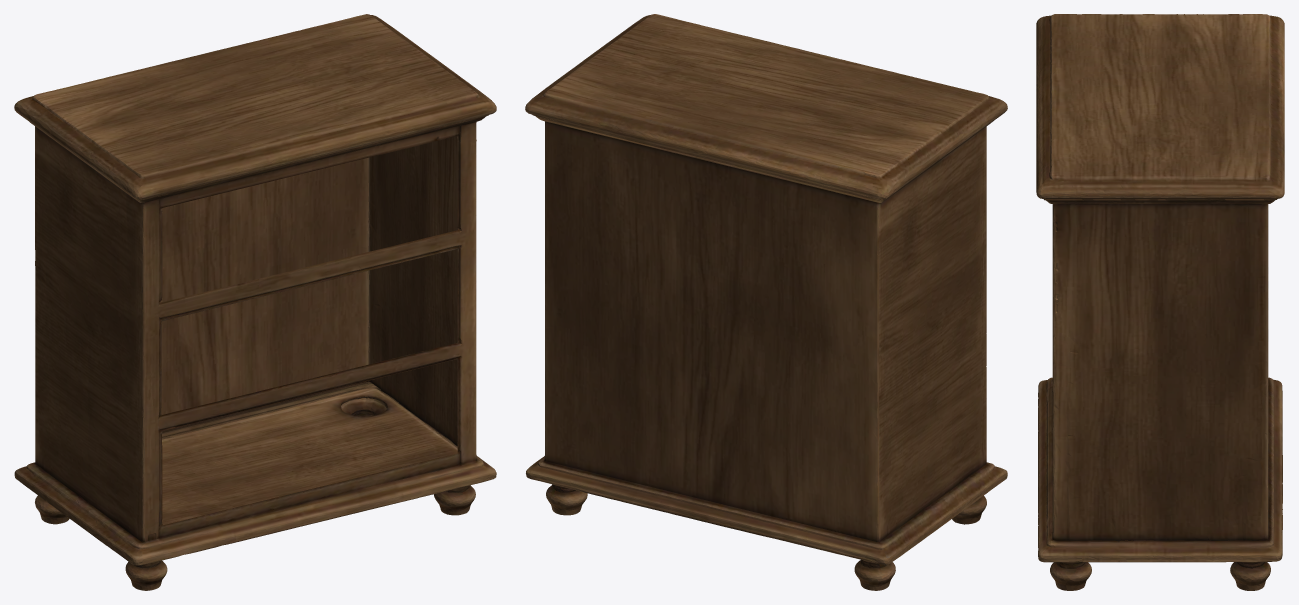
File: body.glb
3 views of the same model, side by side, from view 1: azimuth 30°, elevation 25°; view 2: azimuth 150°, elevation 25°; view 3: azimuth 270°, elevation 25° (orthographic).
Parts seen in each view (by area): view 1: source_surface_0; view 2: source_surface_0; view 3: source_surface_0.
Part boxes in pixels (x1=…): source_surface_0: x1=14, y1=14, x2=496, y2=590; source_surface_0: x1=525, y1=14, x2=1007, y2=590; source_surface_0: x1=1036, y1=14, x2=1284, y2=590.
Size of the model in its own units: 0.727 by 0.8 by 0.4335.
Materials: 1 (1 with a texture image).
